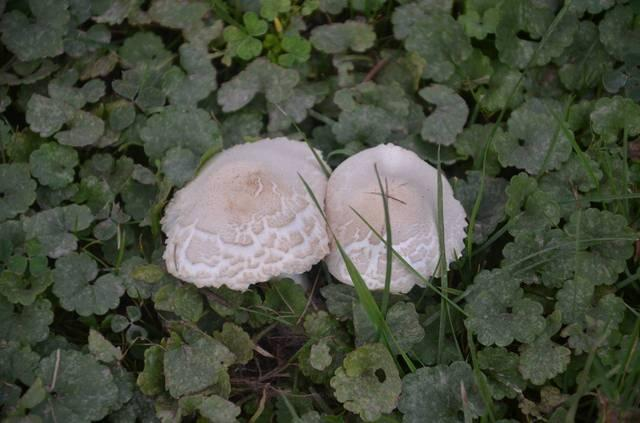poisonous_mushroom: (159, 135, 330, 292), (323, 141, 469, 295)
